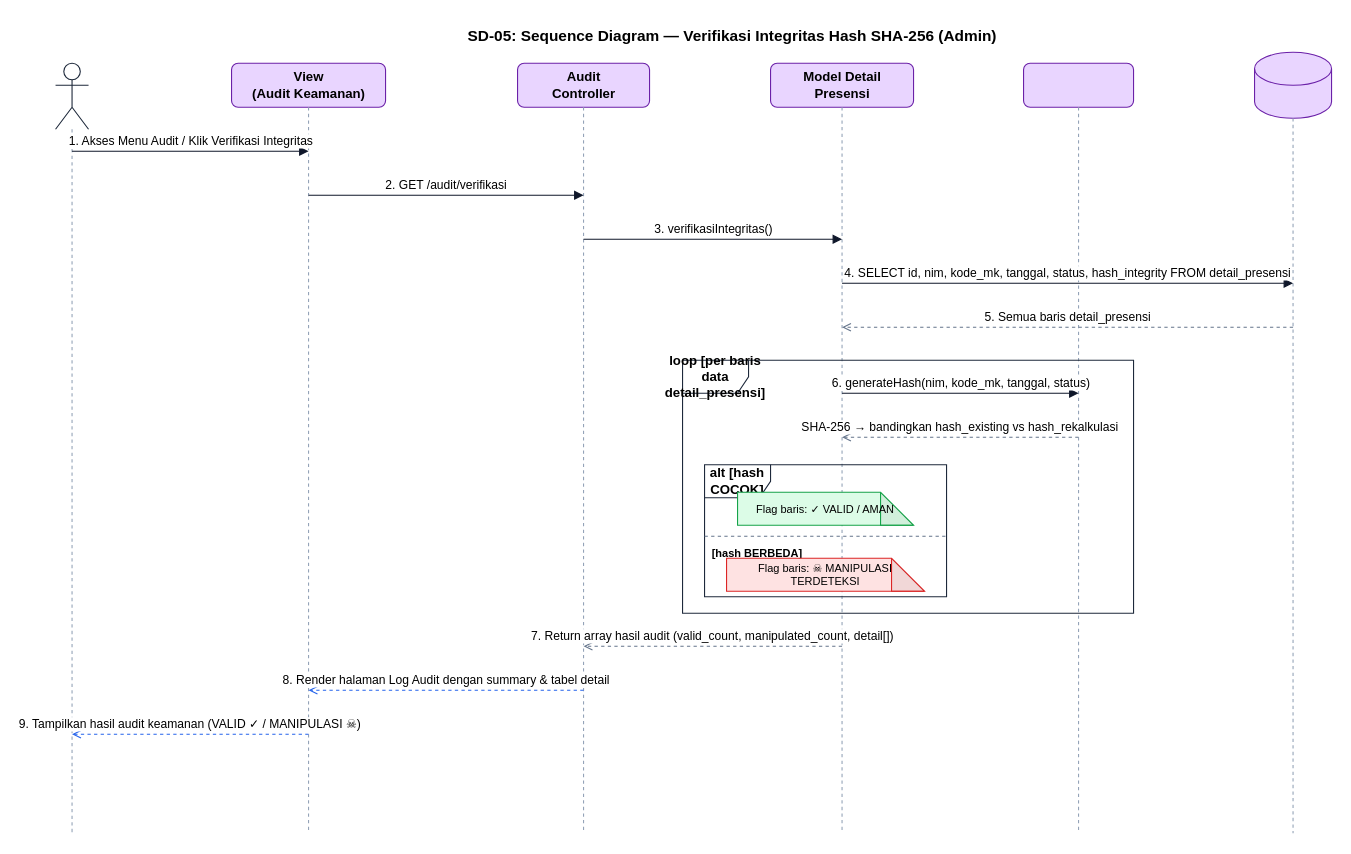
Image size: 1351x854. Some labels were removed from this diagram. The shapes that lost their labels are listed below. From the top down, each one's centre as x and y in pixels, then its label:
At [71,95]: "Admin".
At [1078,84]: "Format Helper".
At [1292,84]: "Database MySQL".
